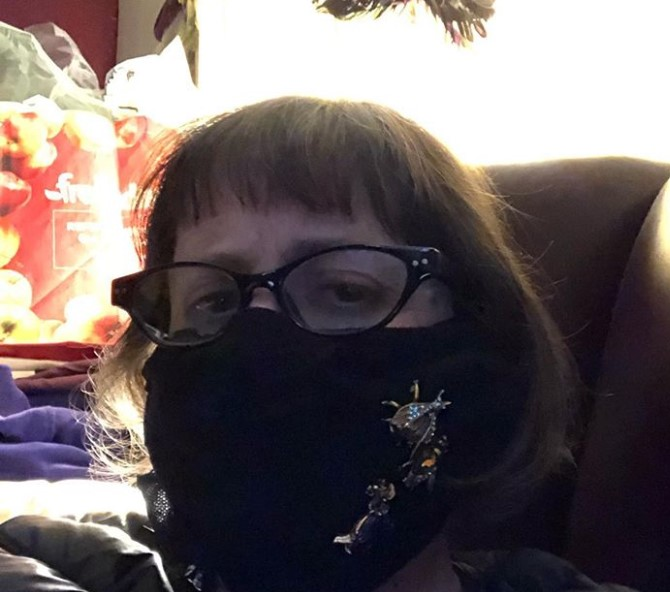face_with_mask: (106, 98, 549, 589)
